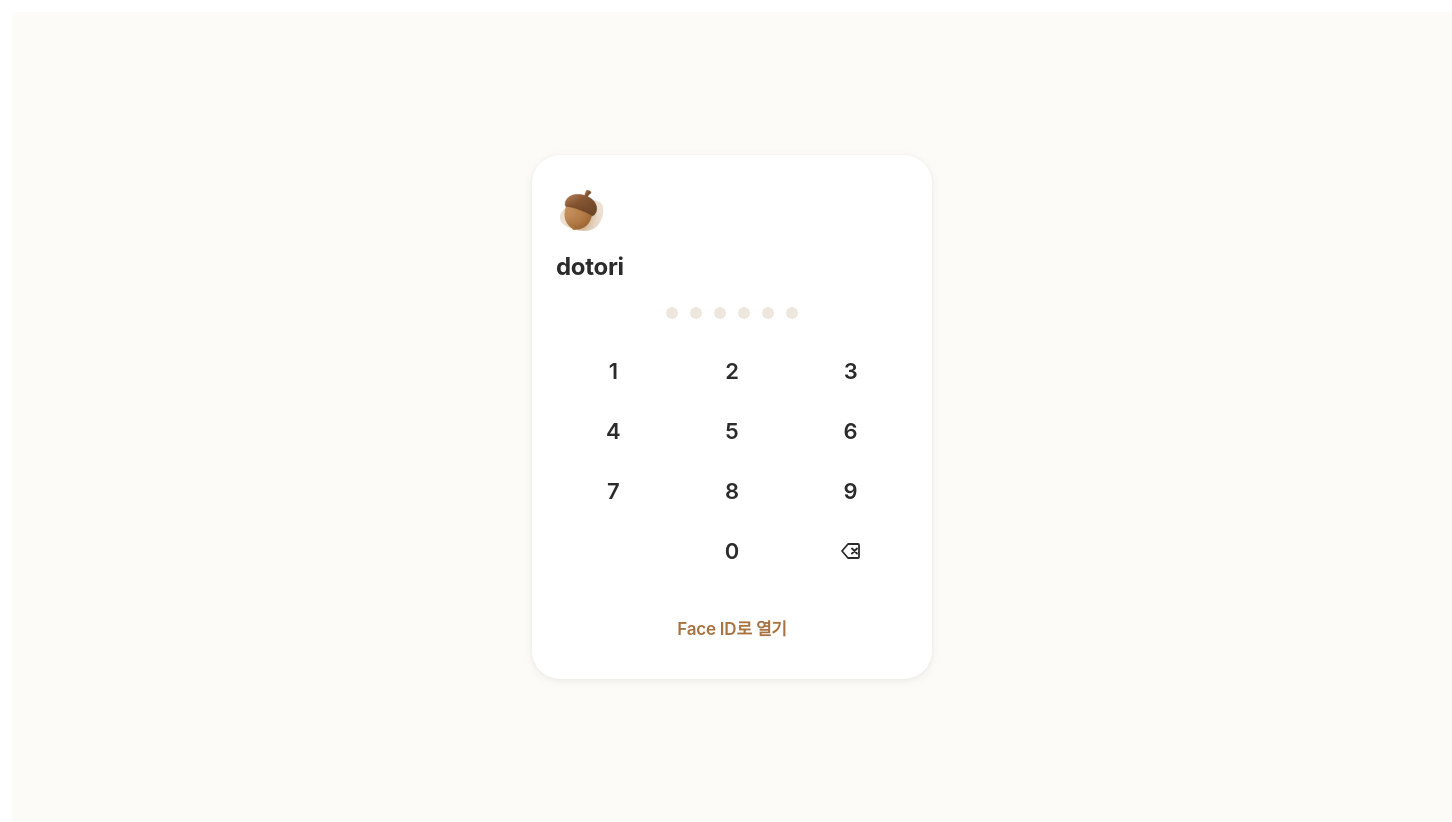
Test case: LockGate — Face ID › 등록돼 있으면 'Face ID로 열기' 버튼으로 잠금이 풀린다
The width and height of the screenshot is (1452, 822).
Click the button "Face ID로 열기".
click(732, 629)  # box [556,603,908,655]
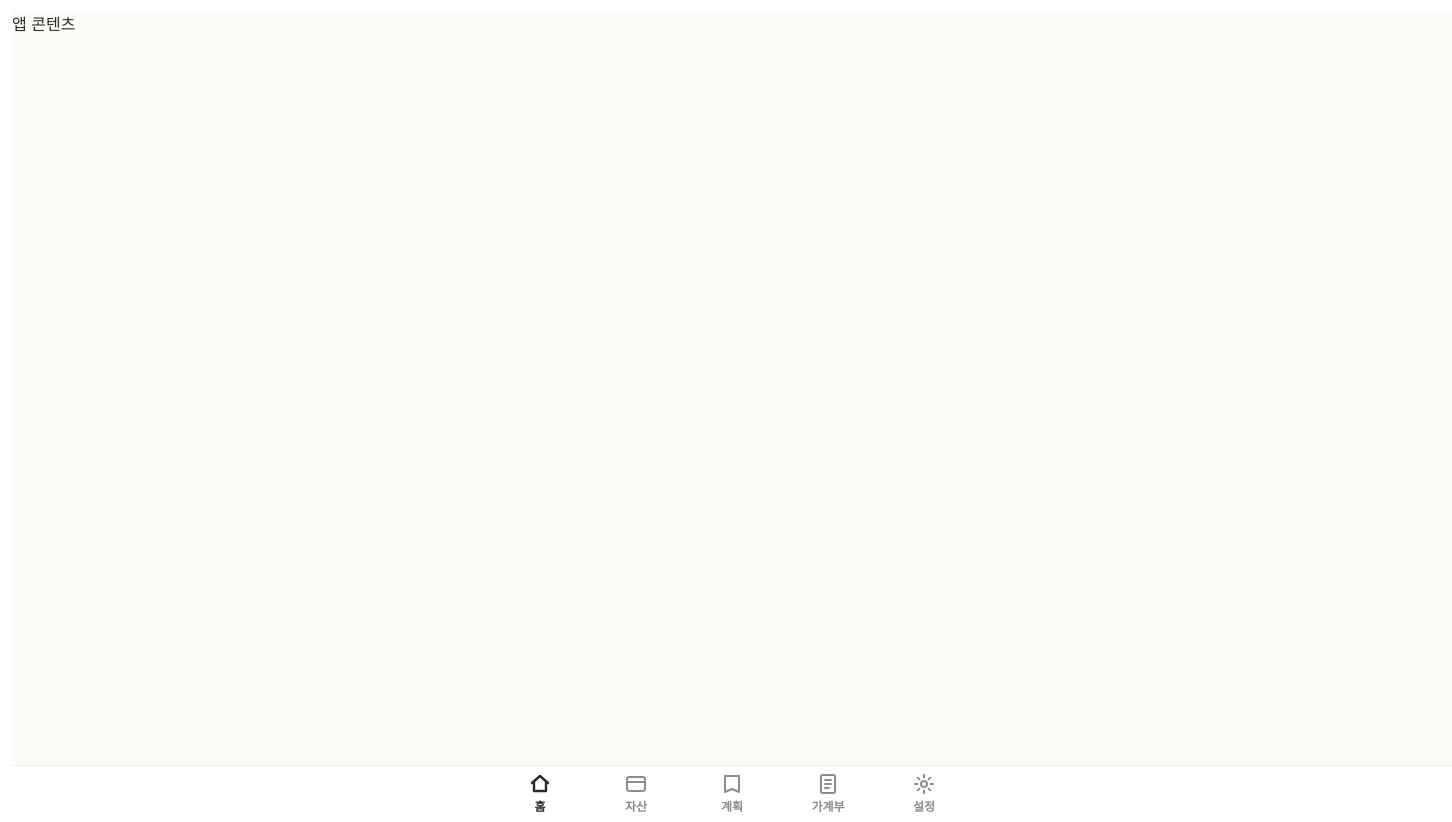
Result: the text "앱 콘텐츠" is shown at [12,14,75,34]
